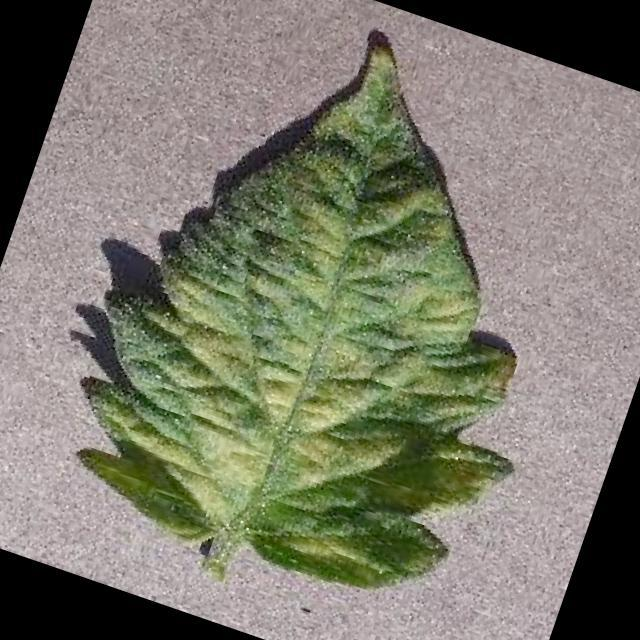Tomato mold leaf: (42, 0, 630, 626)
